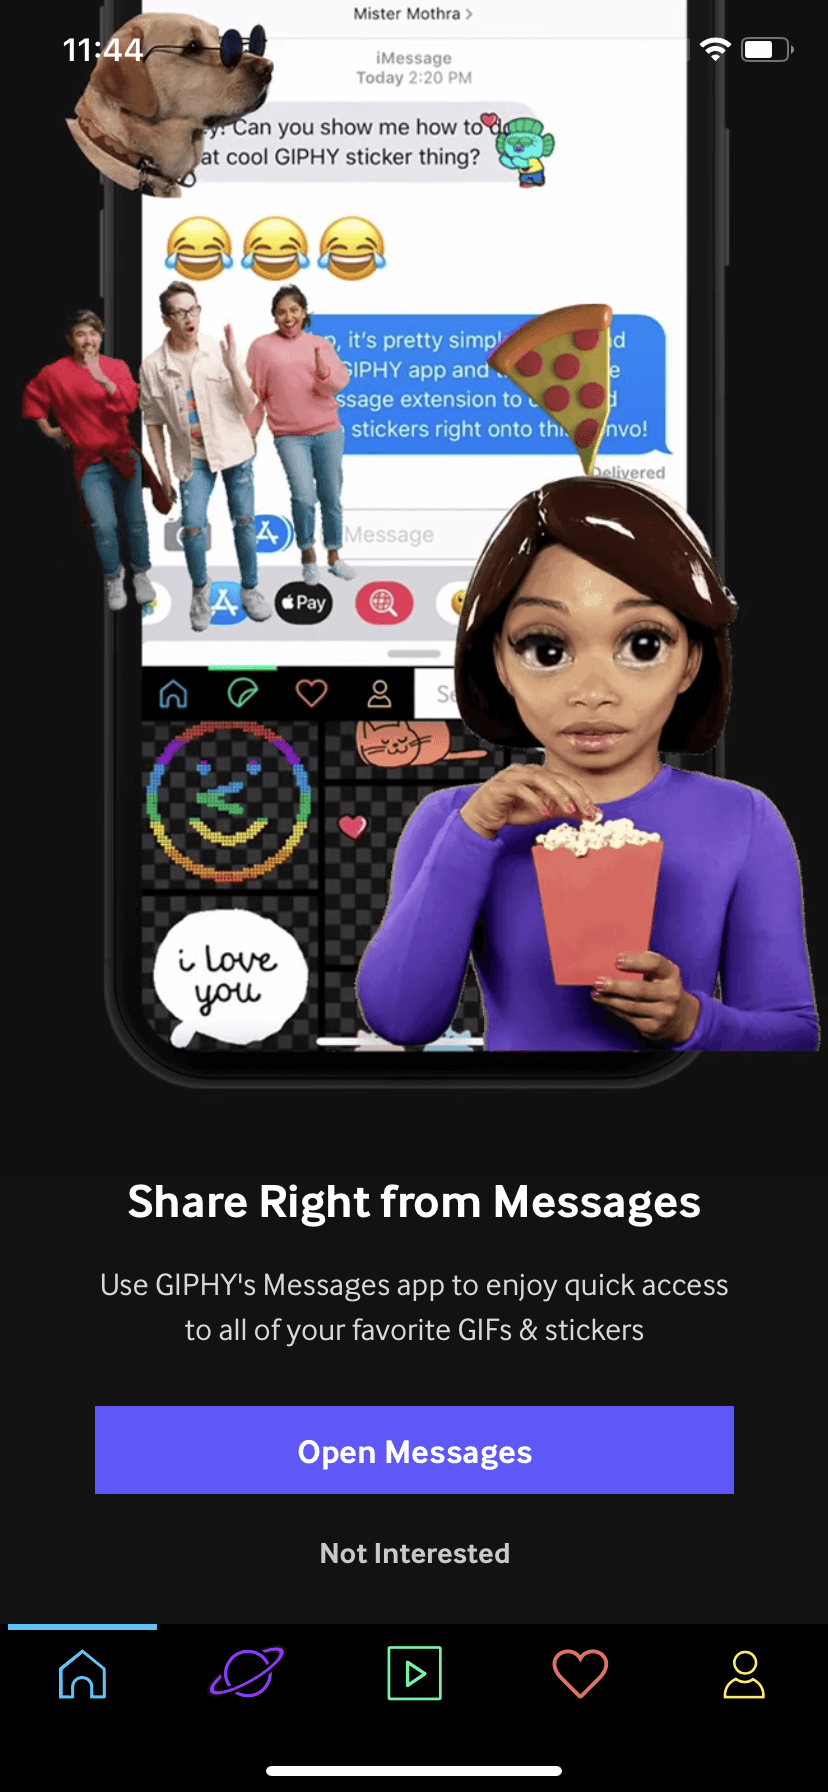Buttons: (85, 1395, 748, 1509), (286, 1519, 538, 1591)
